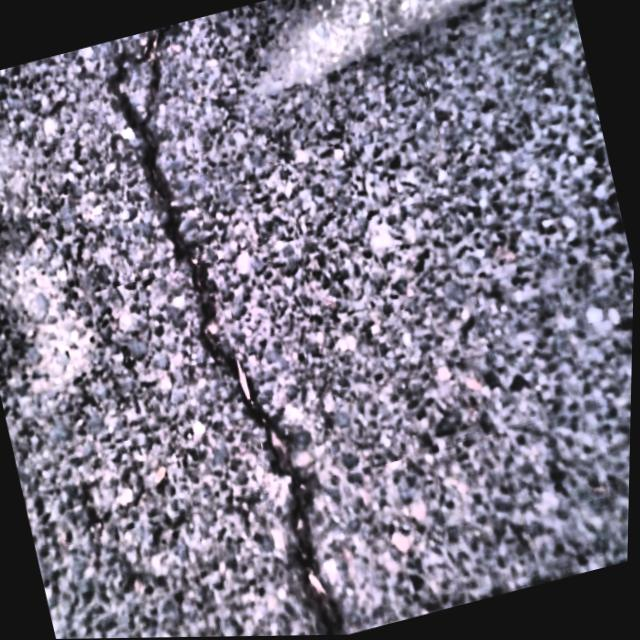cracks: (81, 11, 373, 637)
